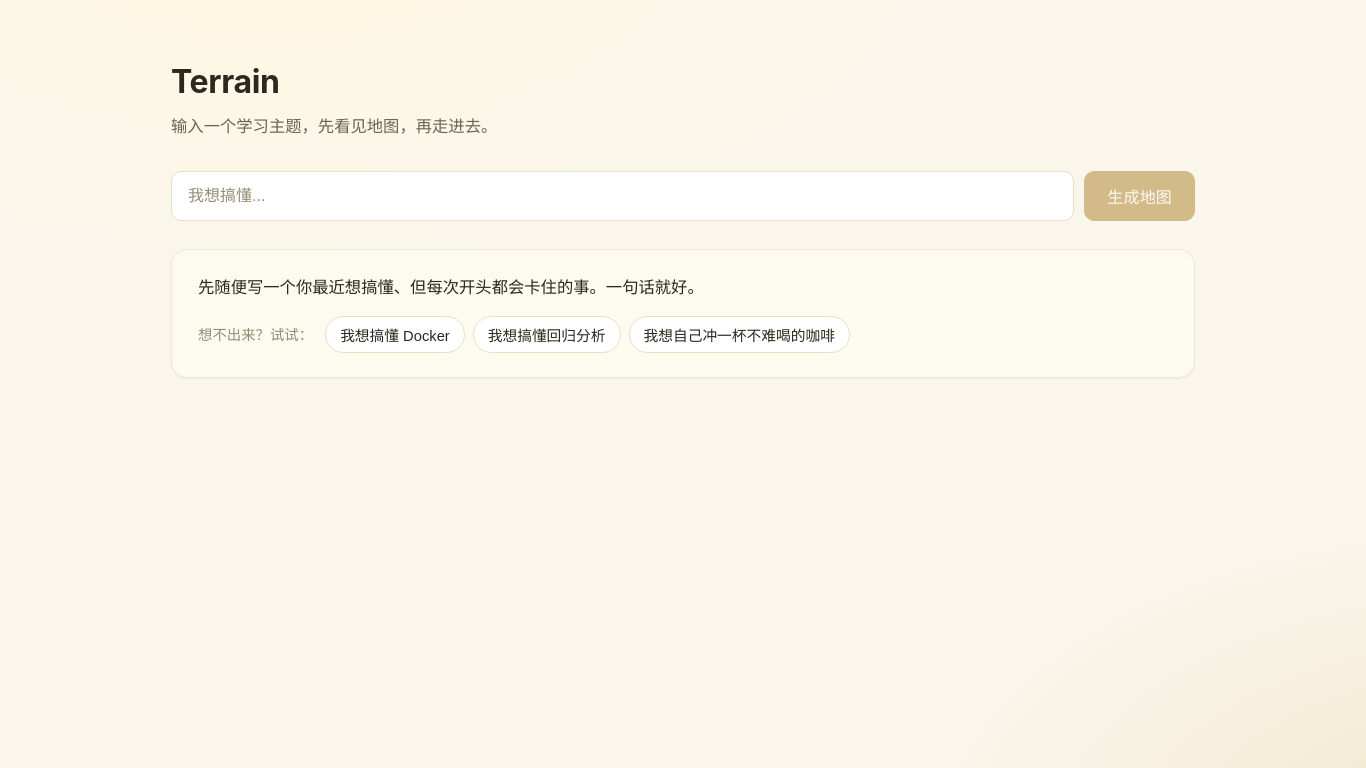
it: App integration › shows detail error state and recovers via retry
Type "Docker" into the field named "学习主题". click: x=623, y=196
box: [171,171,1074,221]
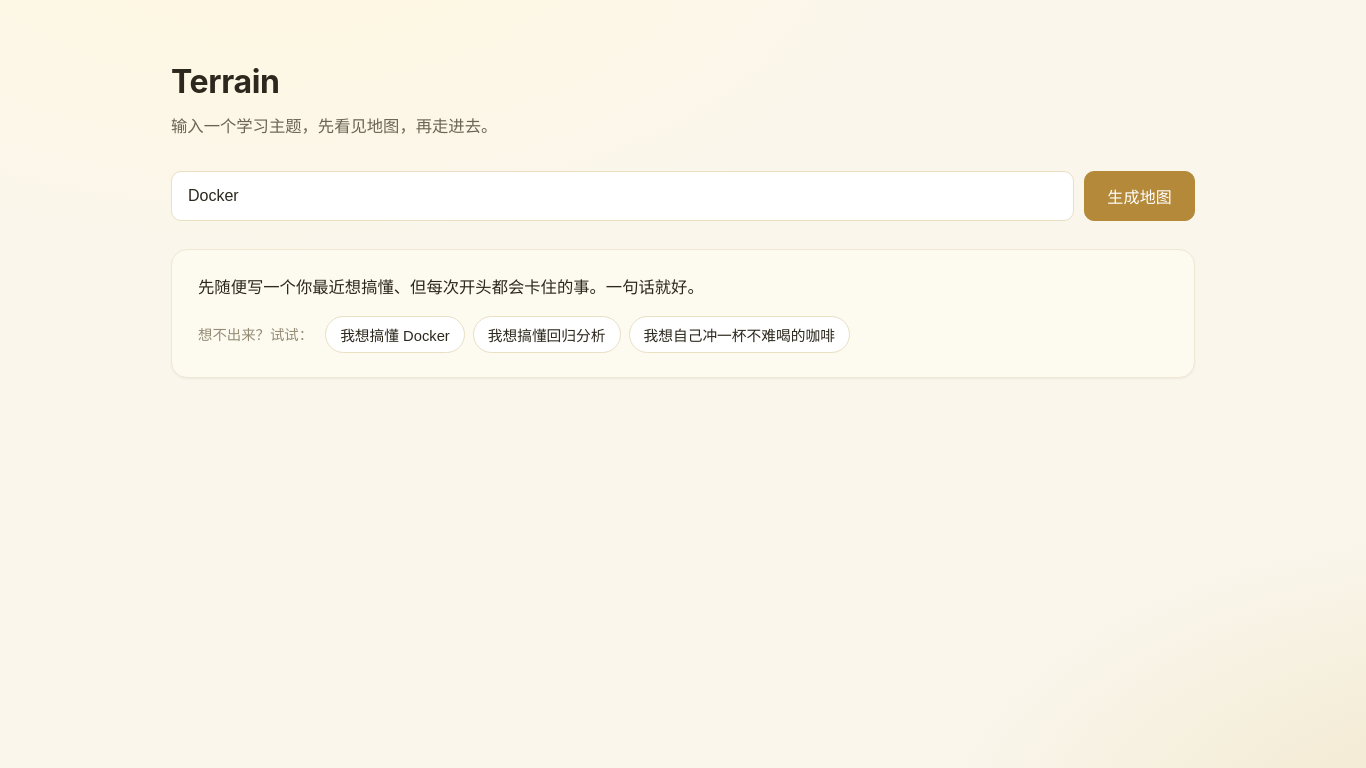
Click the button "生成地图". click: x=1140, y=196
box: [1084,171,1195,221]
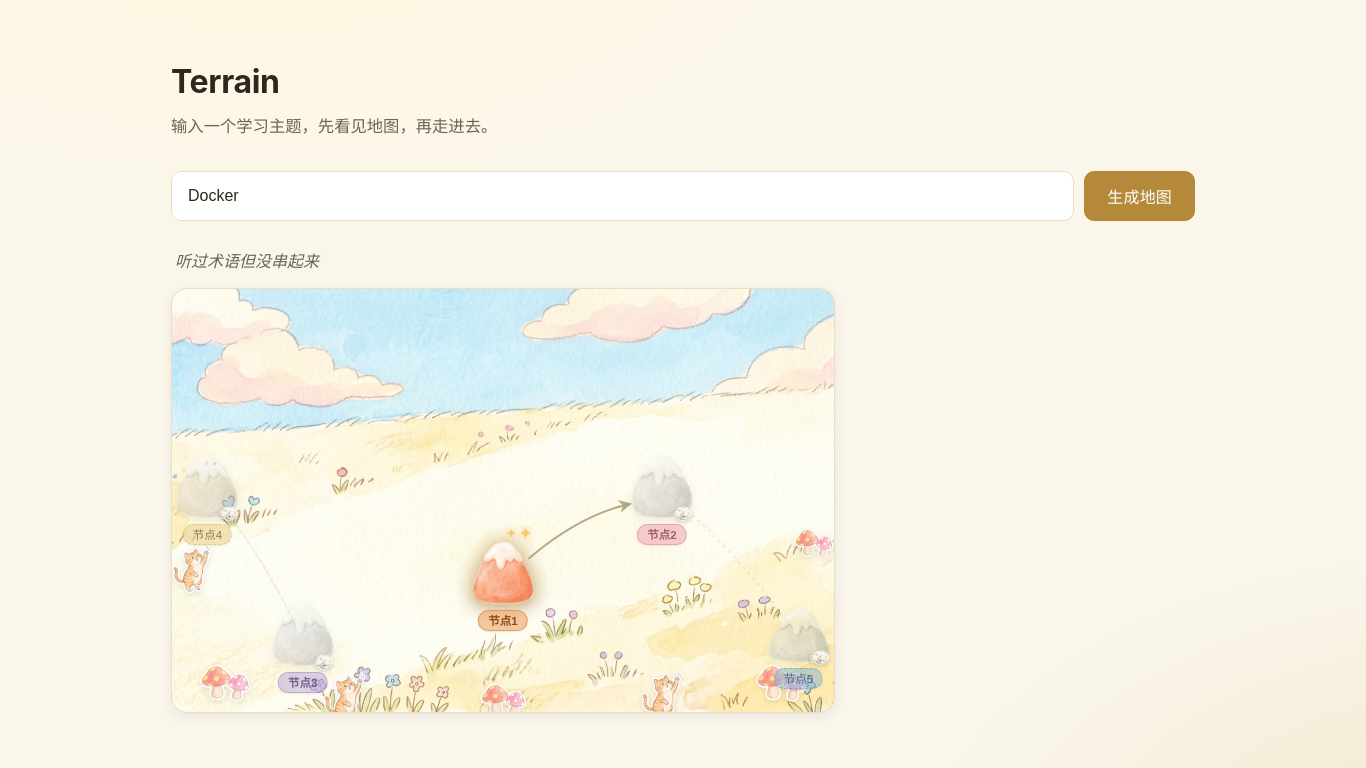
Expected: the button with test id "map-node-node-2" is shown
Click the button with test id "map-node-node-2". click: x=662, y=487
box: [630,455,693,519]
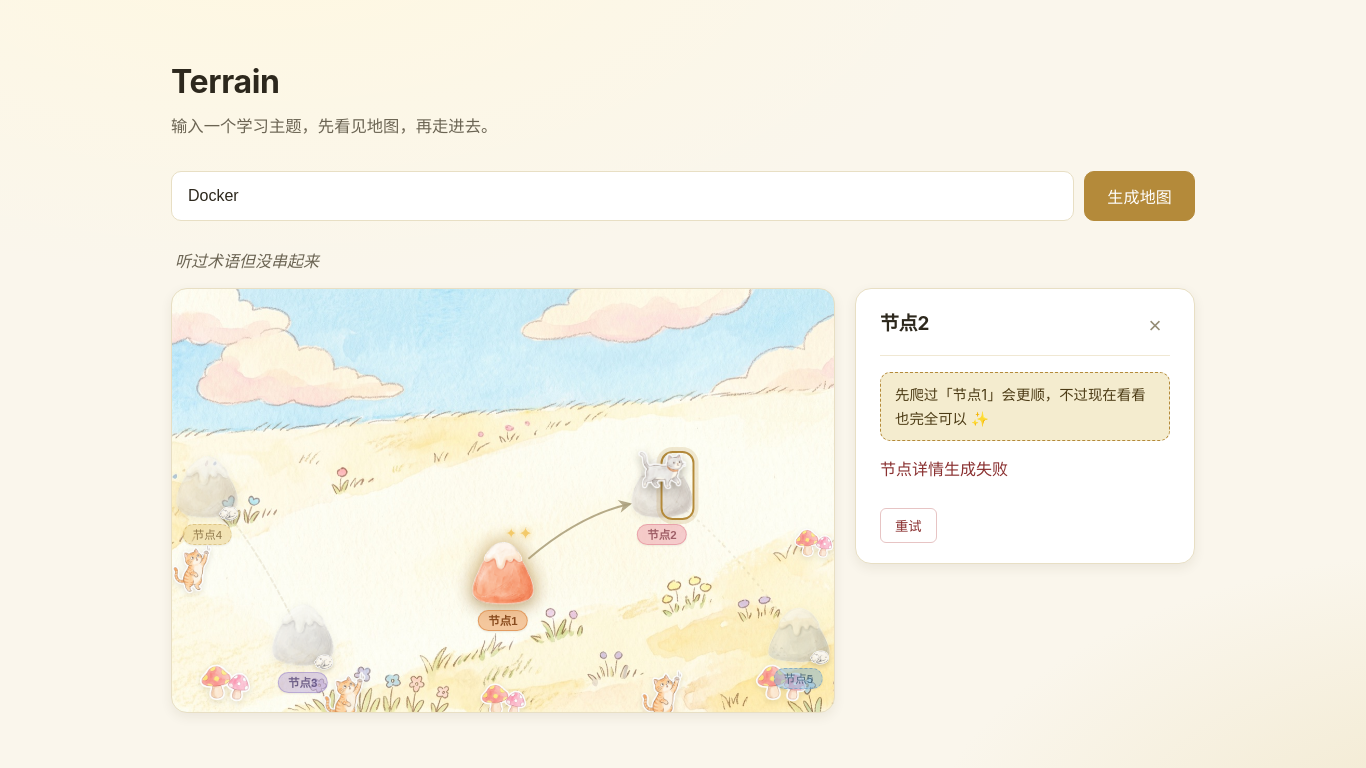
Expected: the text "节点详情生成失败" is shown, [880,459,1008,479]
Click the button "重试". click: x=908, y=526
box: [880,508,937,543]
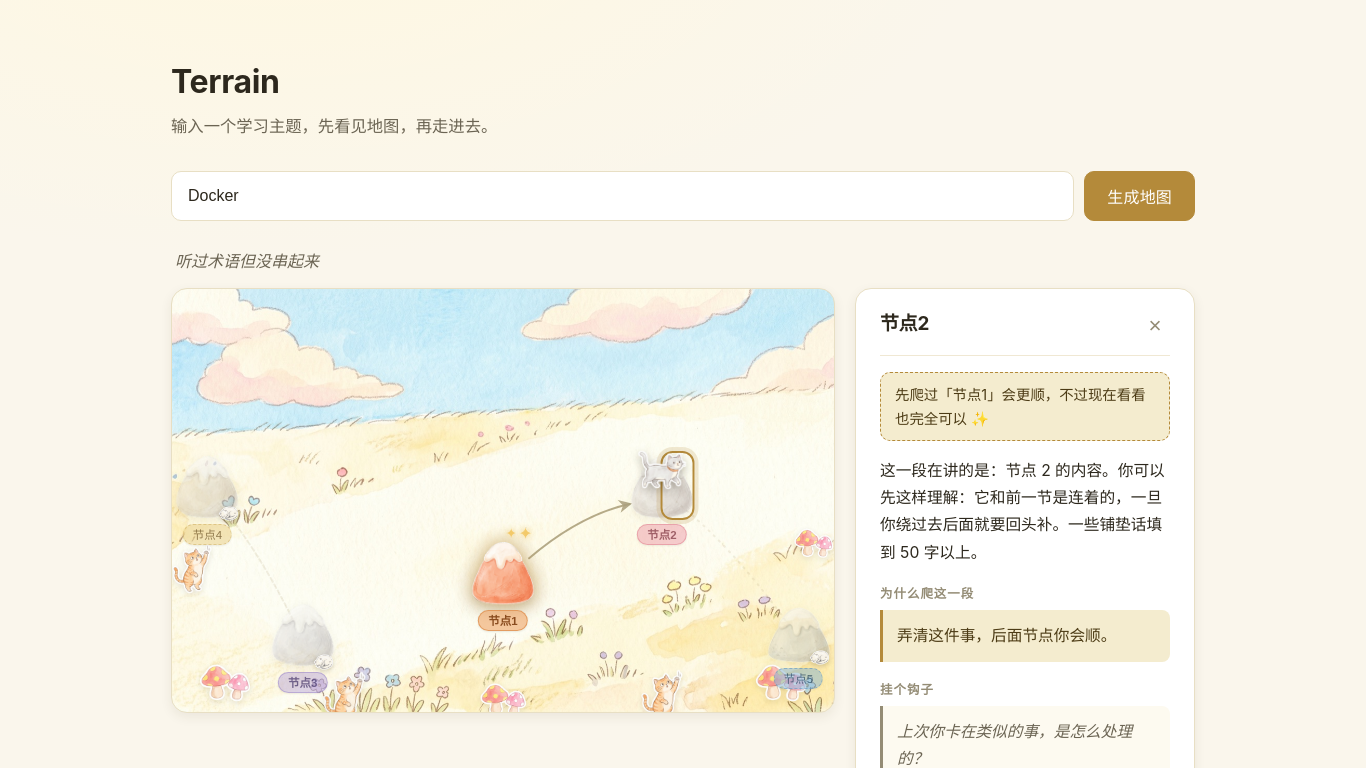
Expected: the text "这一段在讲的是" is shown, [880,461,1165,562]
